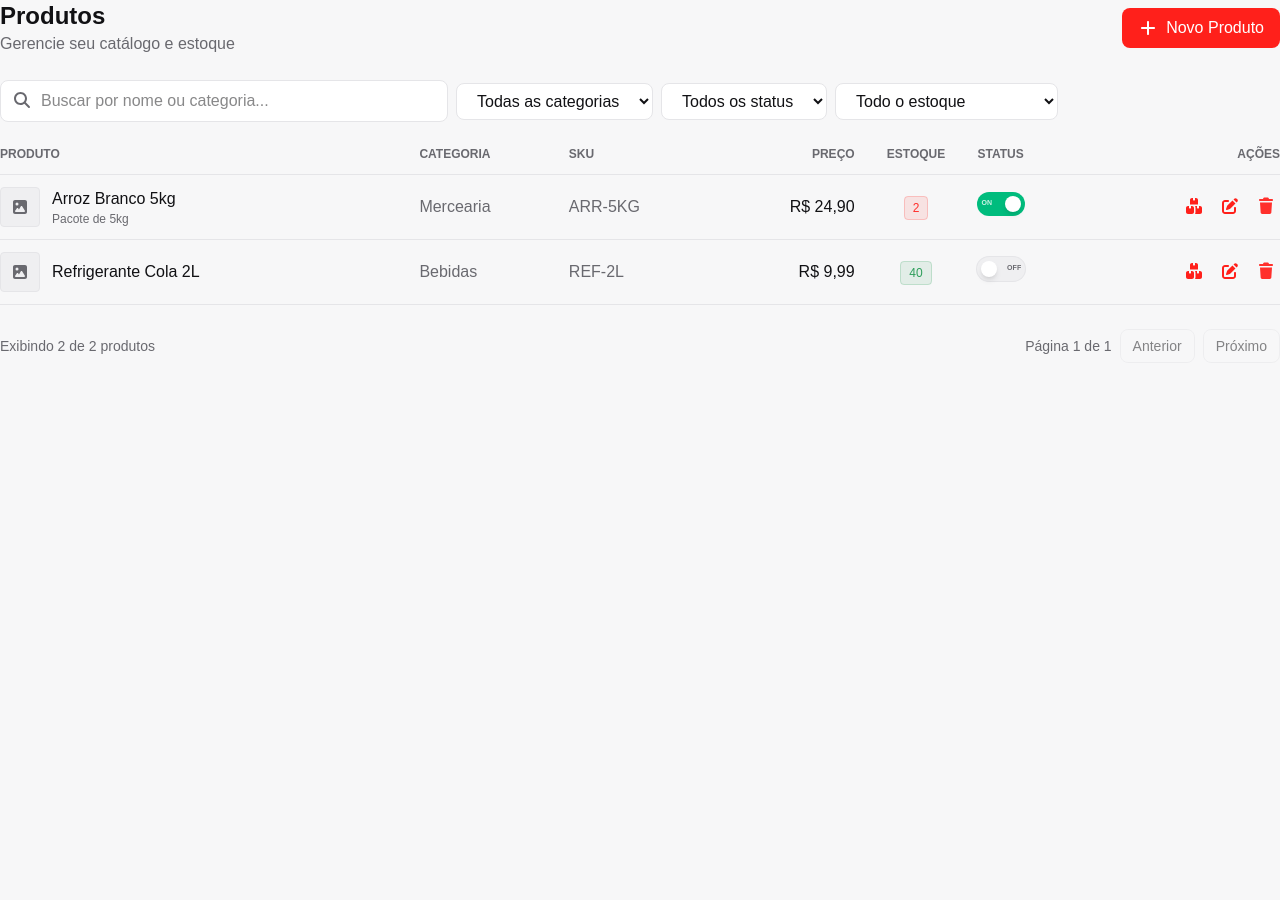
Test case: ProductsPage — modal de estoque › exibe erro do backend ao ajustar (ex.: estoque insuficiente)
Click the button named "estoque" at (1196, 207), box [1184, 195, 1208, 219]
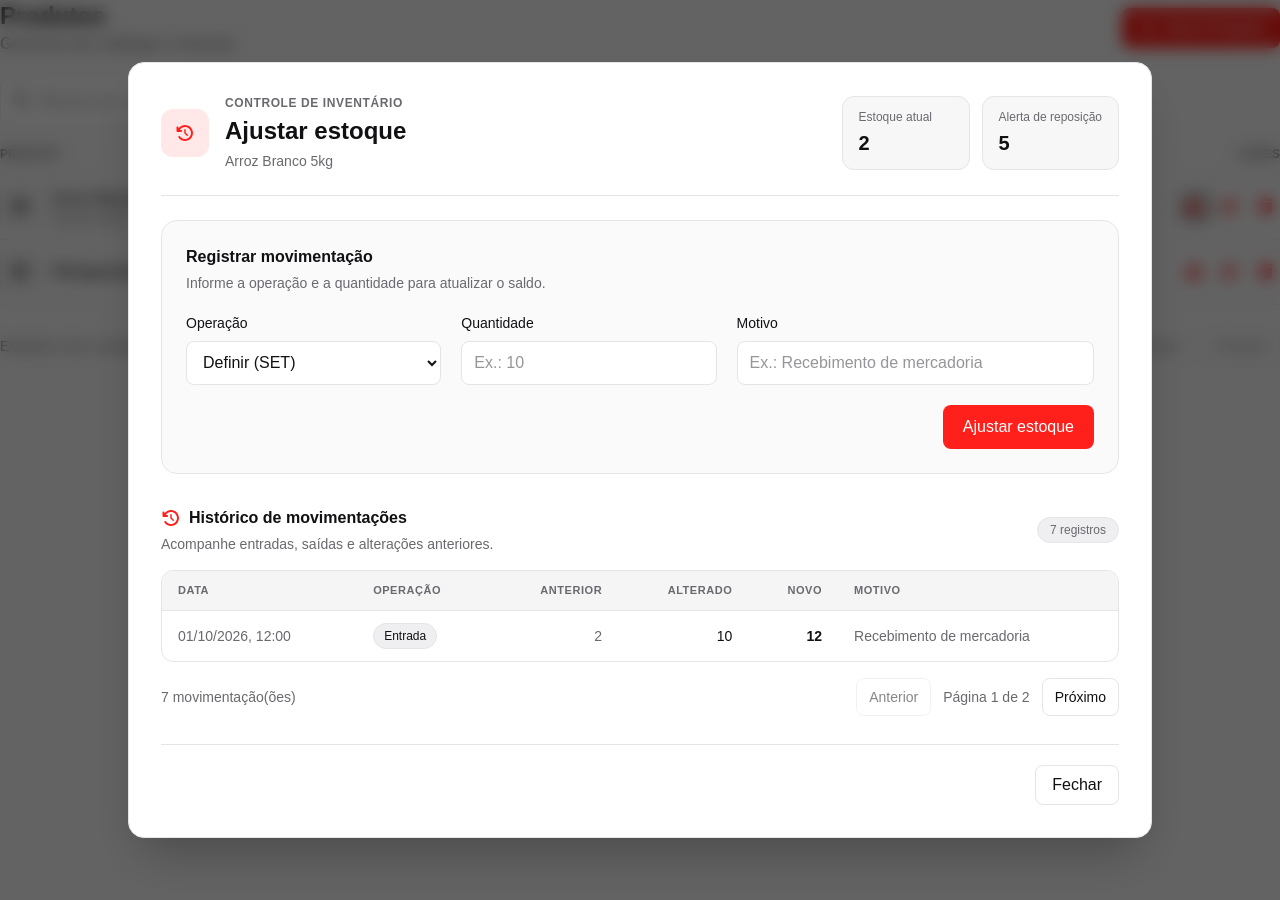
Check: the text "Recebimento de mercadoria" is shown, box [838, 611, 1118, 661]
Select "Remover (DECREMENT)" in the dropdown labelled "Operação" at (314, 363), box [186, 341, 441, 385]
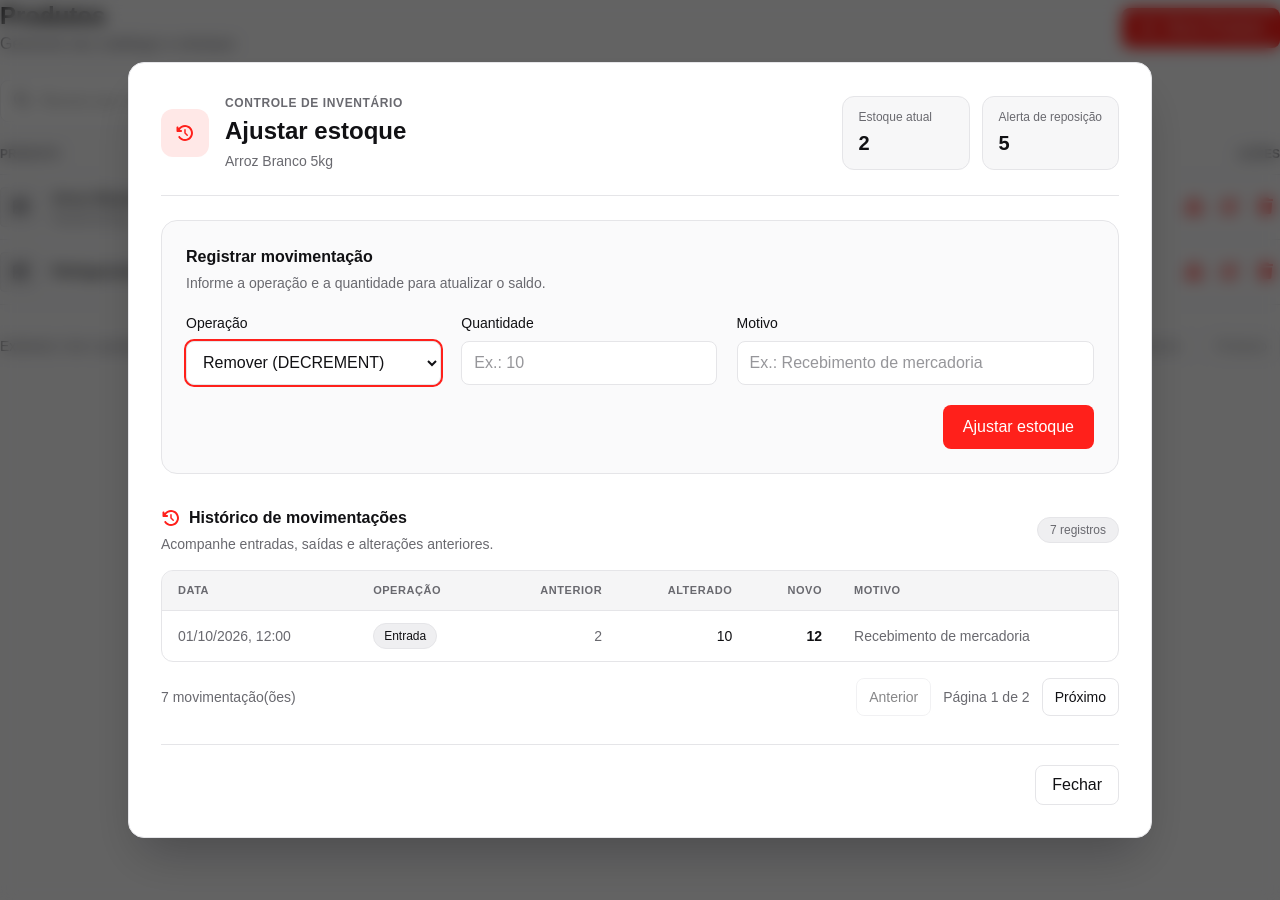
Type "999" into the number field labelled "Quantidade" at (589, 363), box [461, 341, 717, 385]
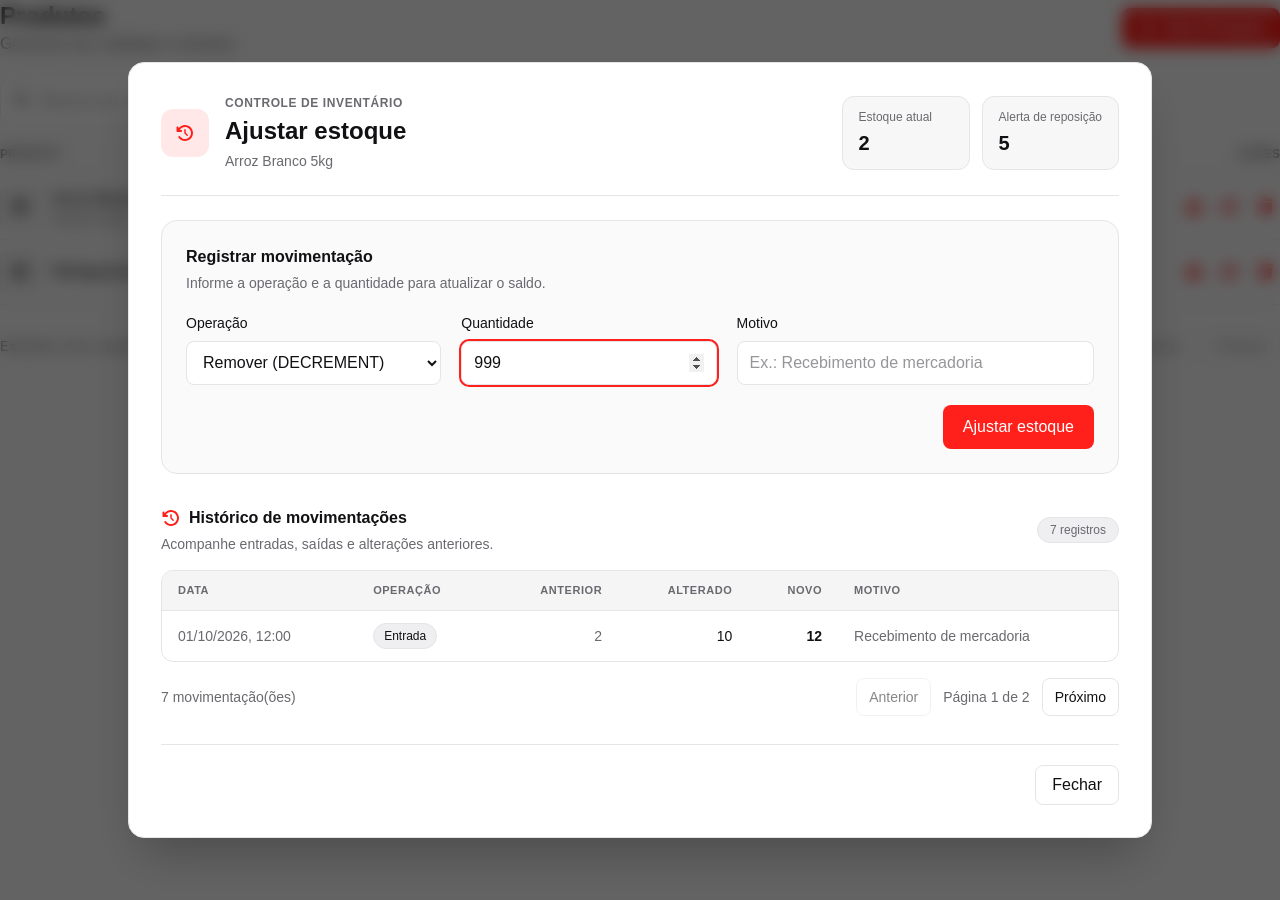
Click the button "Ajustar estoque" at (1018, 427), box [943, 405, 1094, 449]
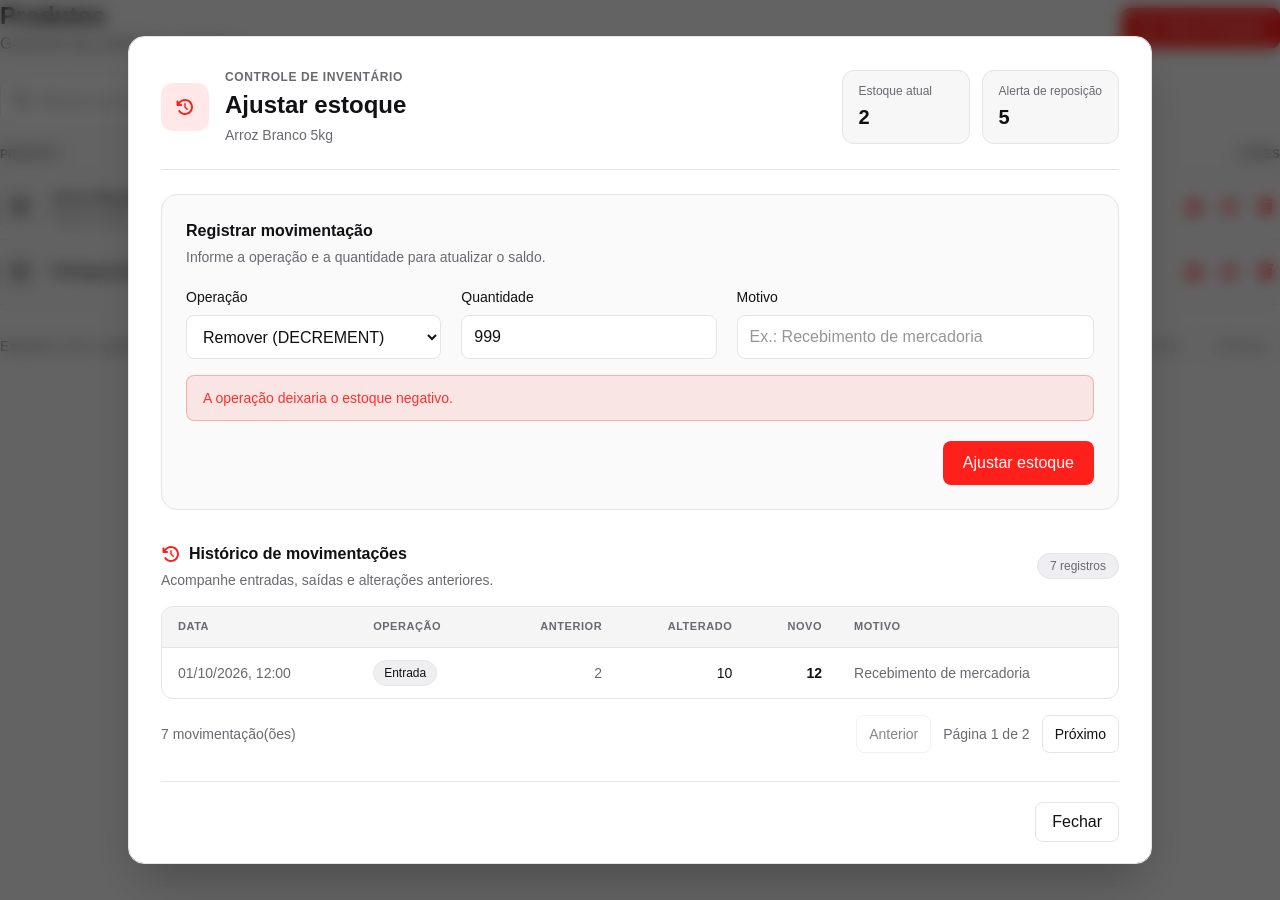
Check: the text "A operação deixaria o estoque negativo." is shown, box [186, 375, 1094, 421]
